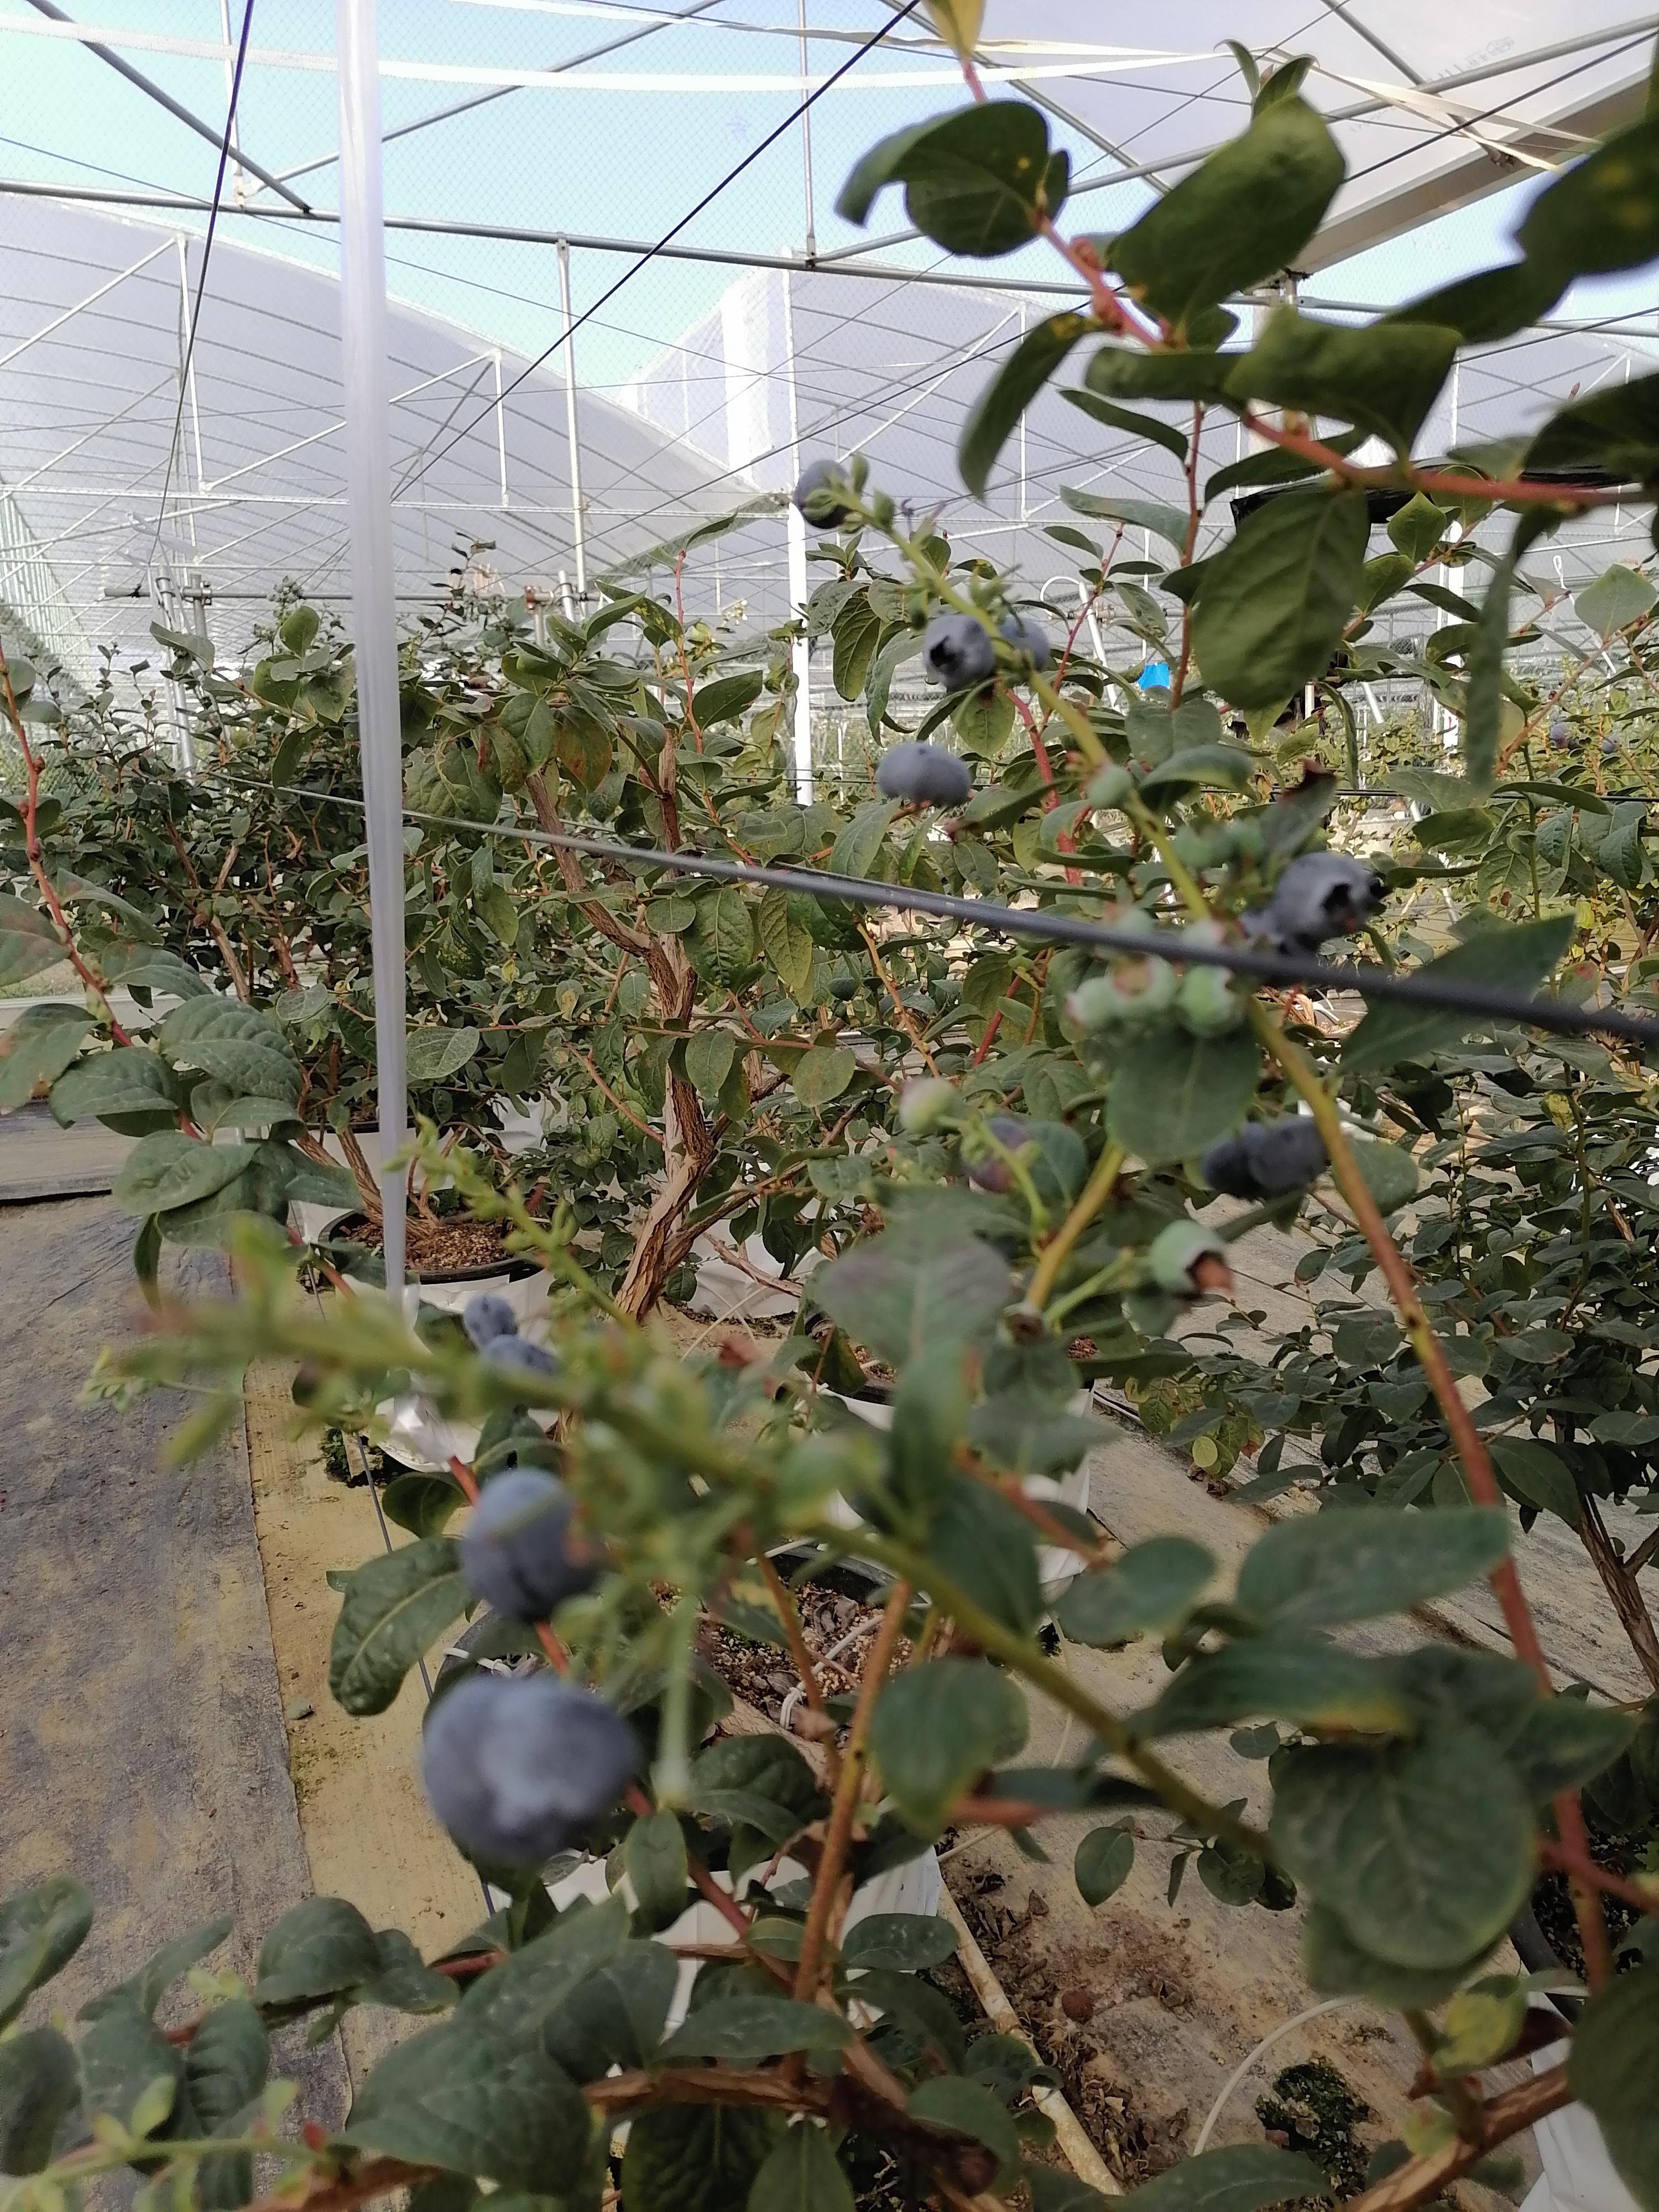ripe-blueberries: (416, 1677, 582, 1872), (483, 1677, 640, 1843), (460, 1468, 605, 1620), (1276, 848, 1368, 942), (875, 738, 971, 808), (1206, 1123, 1286, 1205), (1249, 1113, 1331, 1190), (920, 613, 995, 691), (789, 460, 850, 531), (464, 1291, 516, 1348), (1002, 615, 1051, 671), (1551, 723, 1572, 749), (1601, 735, 1621, 754)
